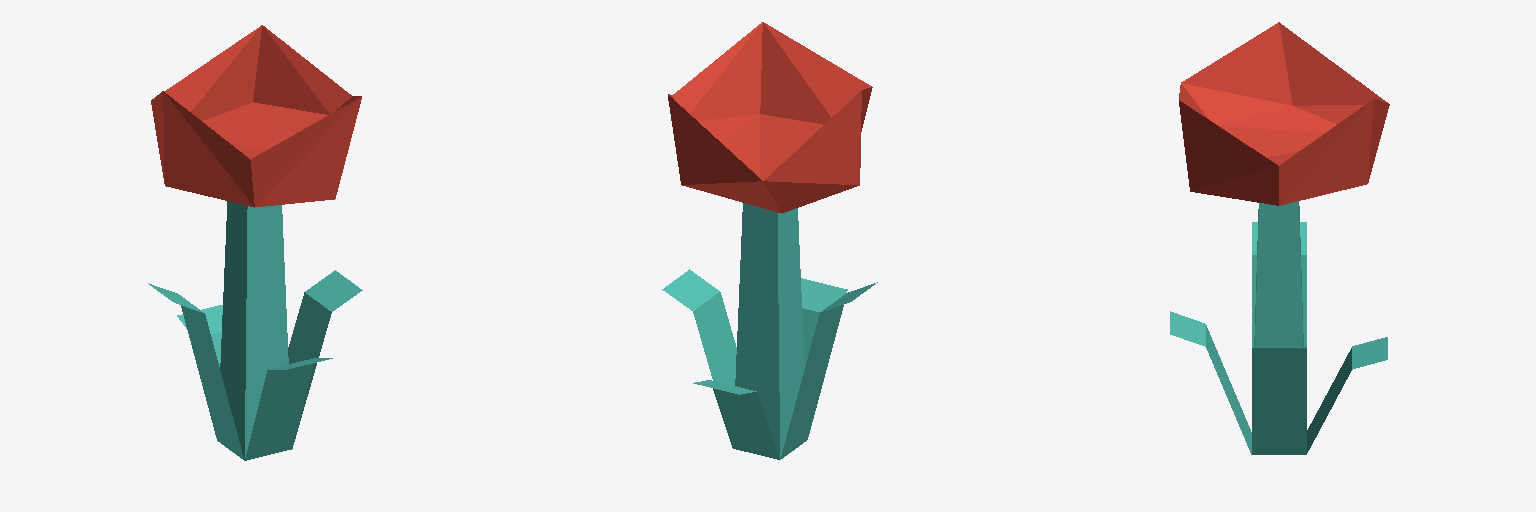
The model's file is Blüte.obj.
The picture shows the model from 3 angles: view 1: azimuth 30°, elevation 25°; view 2: azimuth 150°, elevation 25°; view 3: azimuth 270°, elevation 25°; orthographic projection.
Visible parts, largest first — view 1: flower_red3; view 2: flower_red3; view 3: flower_red3.
Boxes of the visible parts, x1=… form: flower_red3: x1=148, y1=25, x2=362, y2=460; flower_red3: x1=662, y1=22, x2=877, y2=459; flower_red3: x1=1170, y1=22, x2=1389, y2=454.
Size of the model in its own units: 126 by 235 by 124.